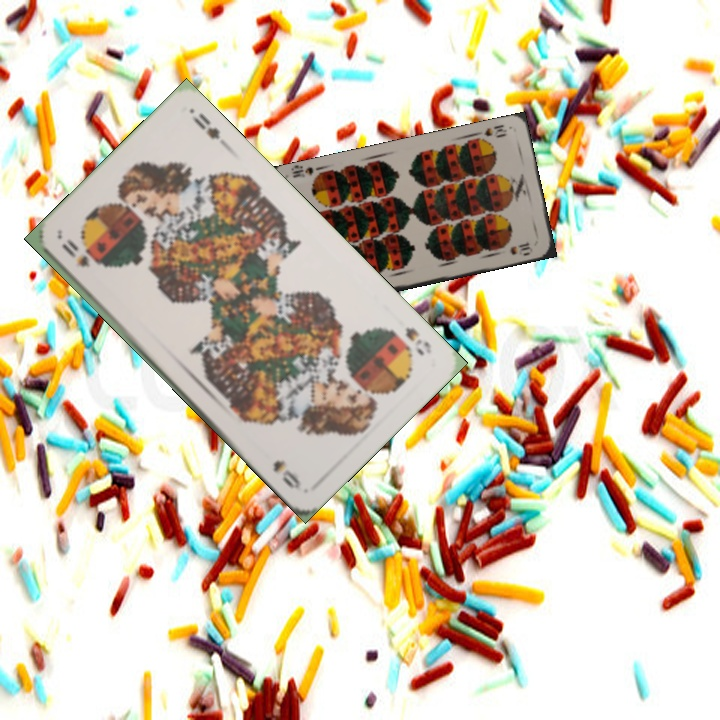S10: (471, 120, 510, 140)
SO: (401, 323, 434, 359), (57, 239, 93, 271)
